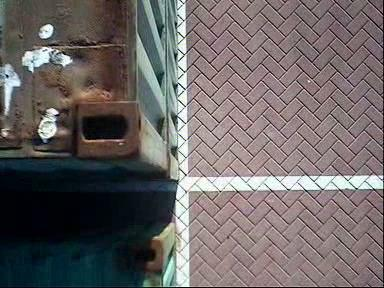groundmarker_2: (1, 168, 102, 234)
